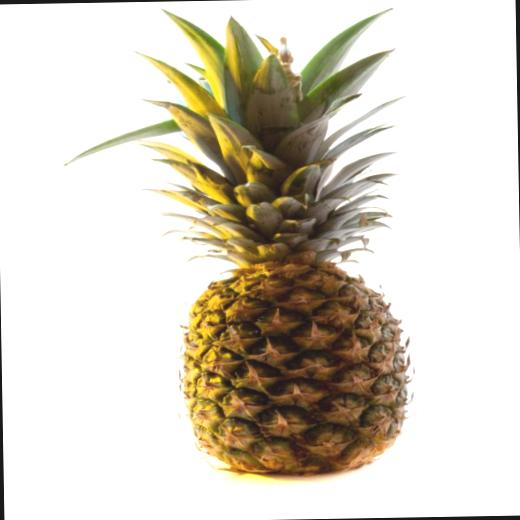Mango: (59, 4, 424, 480)
